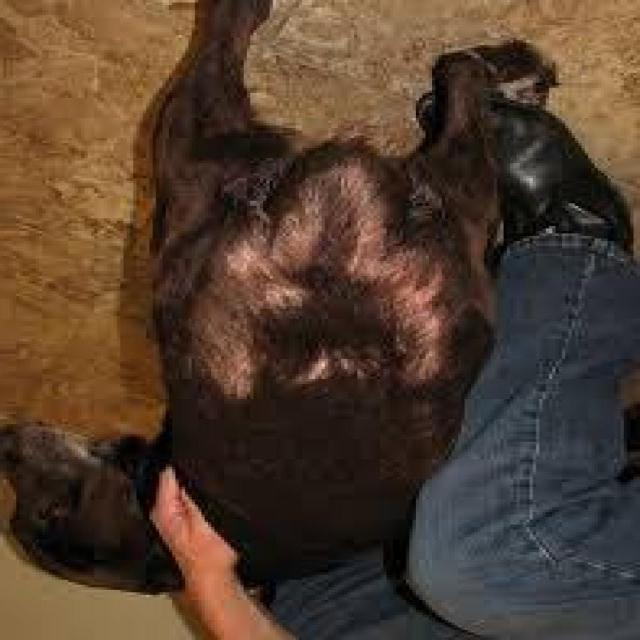allergic dermatitis: (193, 164, 439, 398)
